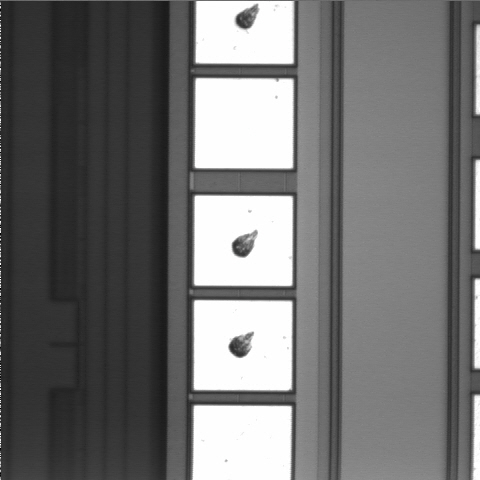pad: (195, 78, 293, 169), (194, 196, 293, 286), (194, 300, 292, 390)
